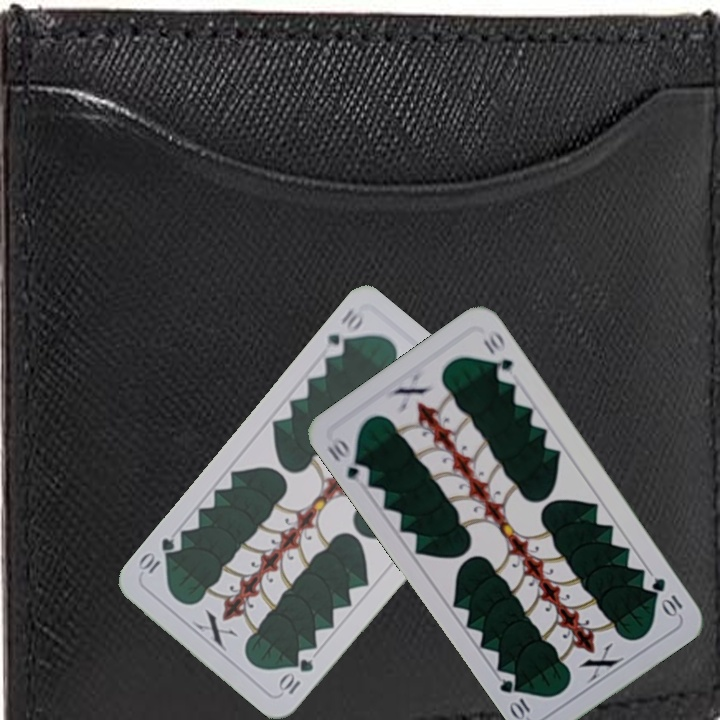G10: (323, 432, 373, 488), (319, 304, 366, 361), (274, 655, 316, 698), (647, 573, 686, 619)
